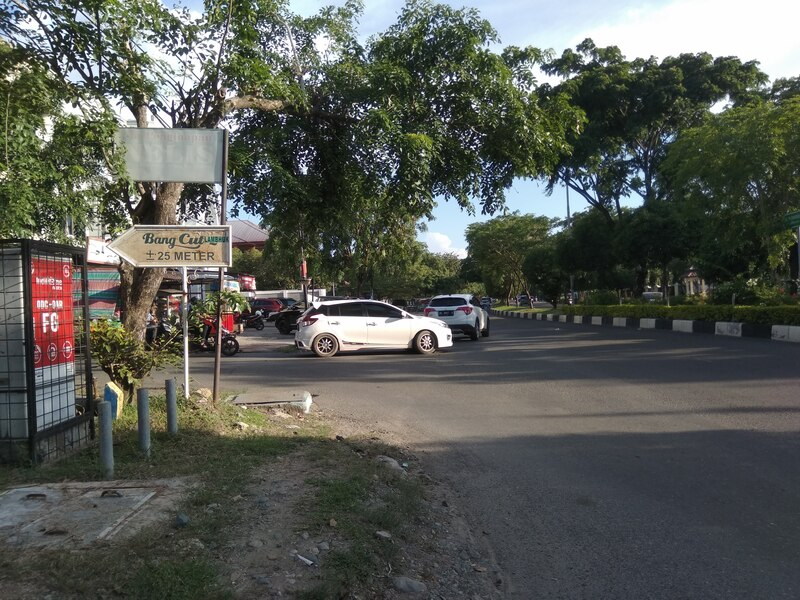car: (288, 297, 454, 362), (421, 292, 495, 345)
motorcycle: (167, 317, 244, 364)
